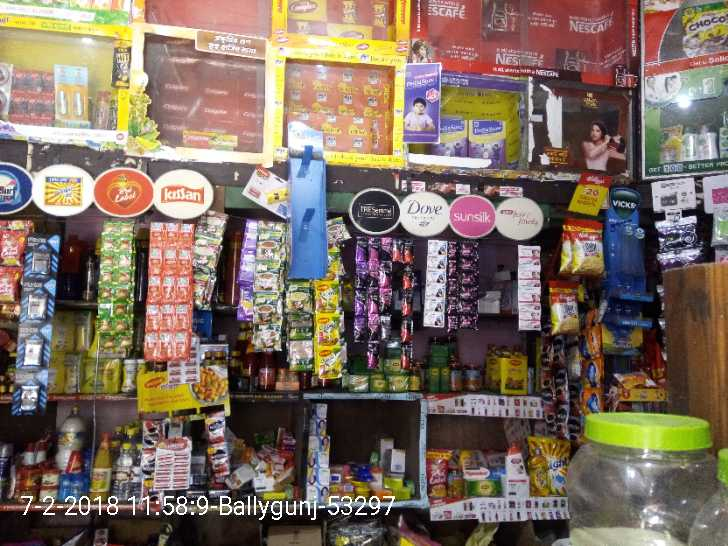reject: (274, 244, 345, 324)
